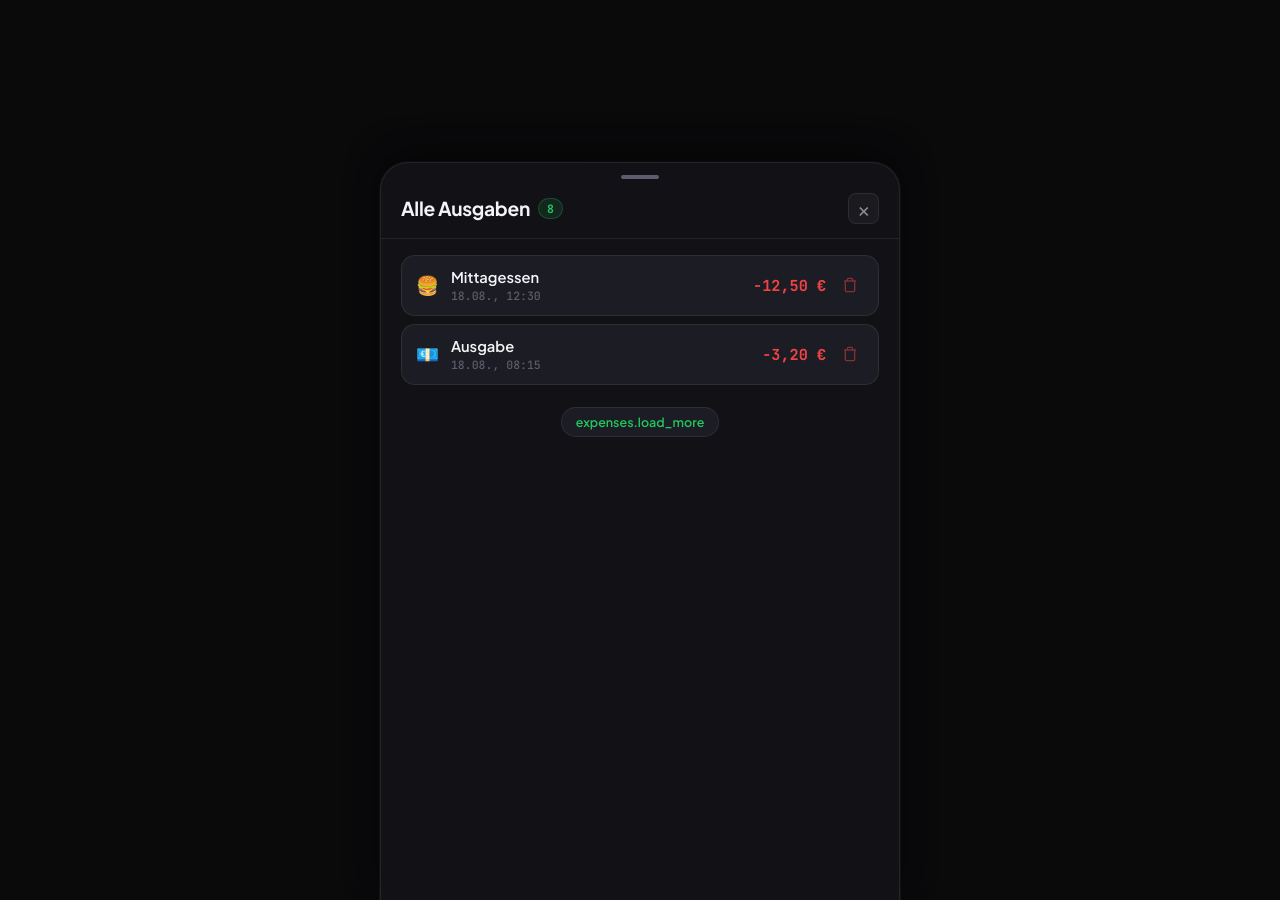
Test: ExpensesModal (Bottom Sheet Overlay) › laedt mehr daten bei infinite scroll / loadNextPage
Trigger more
Click the element with class "load-more-hint": (640, 422) [561, 407, 719, 437]
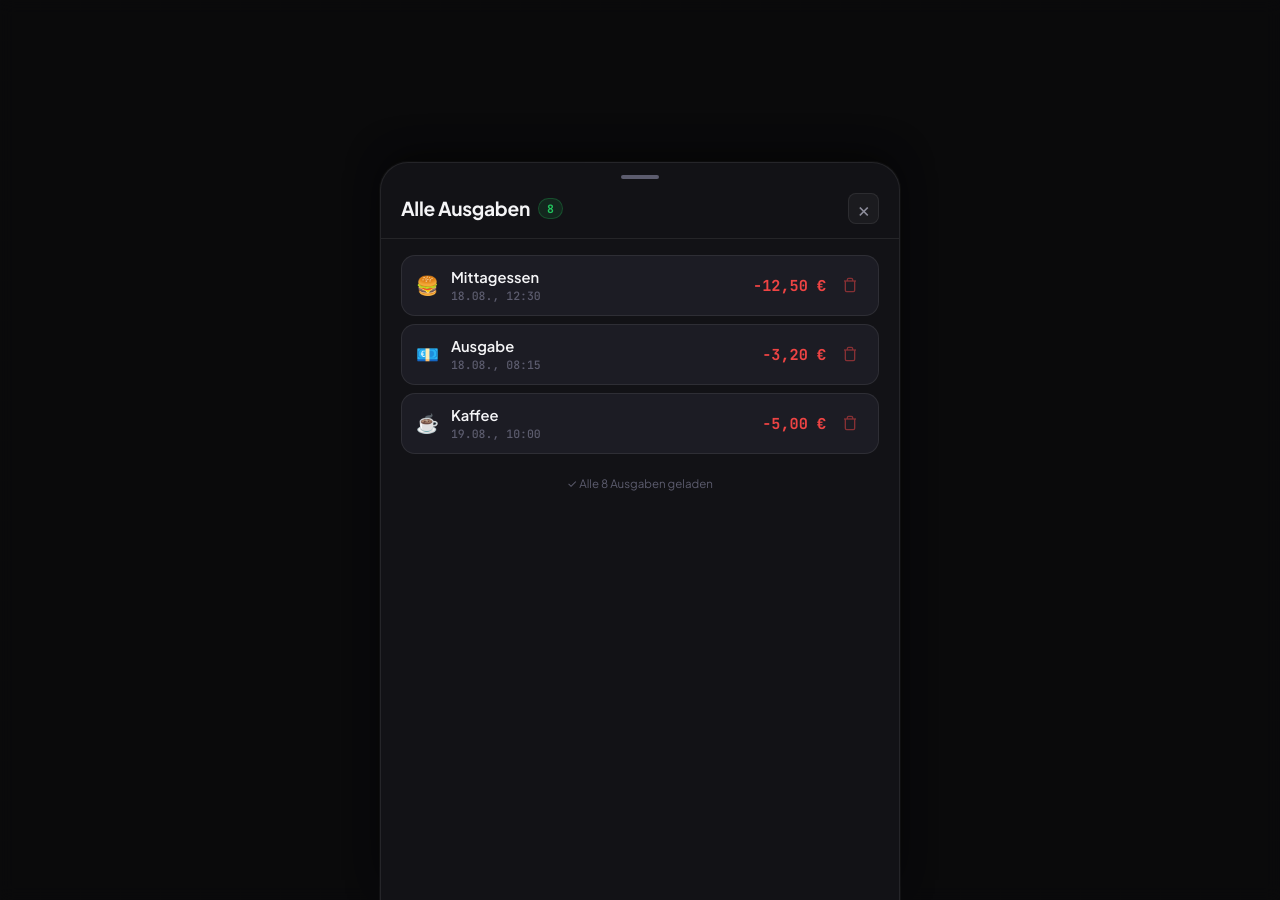
Check: the text "Kaffee" is shown, box [451, 406, 499, 424]
